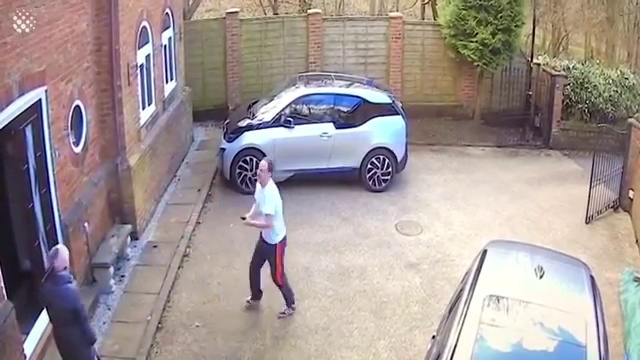face: (256, 166, 270, 181)
